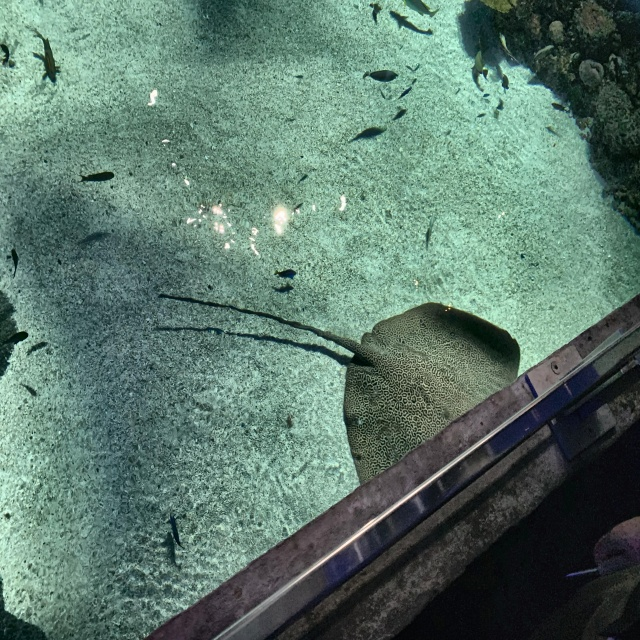fish: (33, 27, 59, 82), (388, 8, 432, 35), (166, 513, 185, 554), (402, 0, 439, 20), (498, 29, 517, 64), (471, 45, 489, 79), (350, 126, 387, 142), (531, 44, 554, 66), (78, 170, 114, 184), (1, 331, 30, 348), (362, 69, 398, 81), (424, 222, 437, 248), (274, 268, 297, 279), (0, 43, 10, 67), (390, 108, 407, 122), (10, 249, 18, 277), (399, 85, 414, 99), (500, 74, 510, 94), (550, 104, 571, 113), (299, 174, 309, 183)
stingray: (342, 302, 521, 490)
